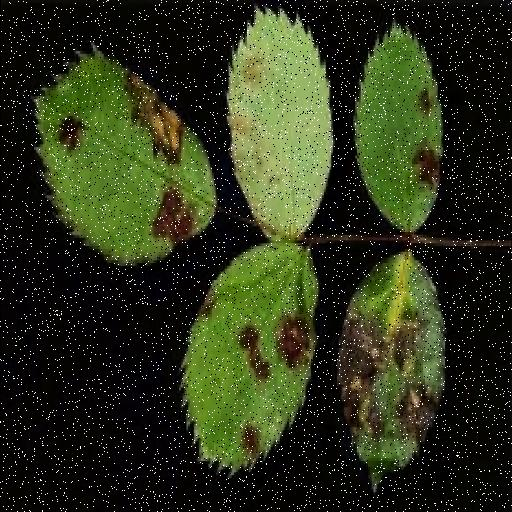downy_mildew: (35, 51, 214, 263), (182, 244, 317, 472), (336, 252, 444, 486), (226, 9, 332, 237), (353, 26, 442, 231)
